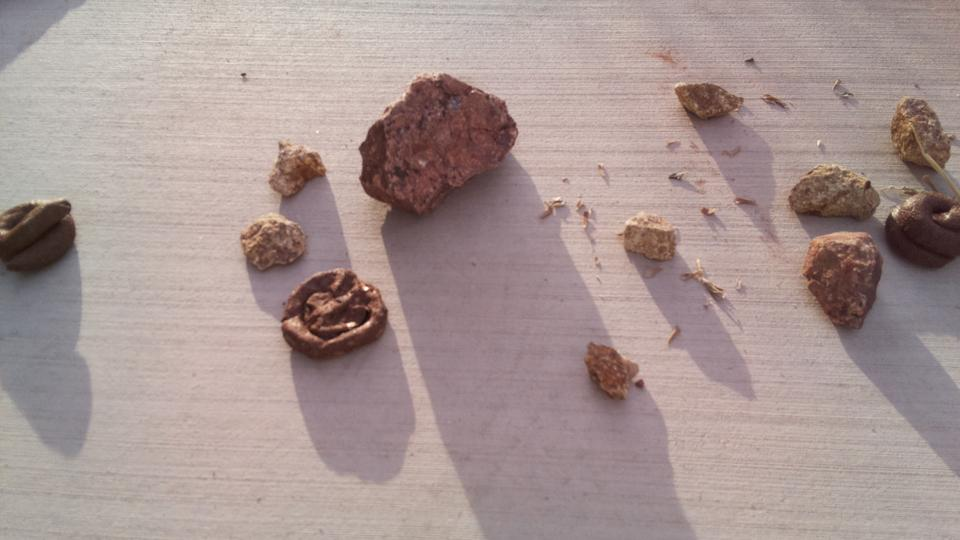poop: (277, 267, 390, 364), (1, 198, 81, 280), (884, 186, 960, 271)
